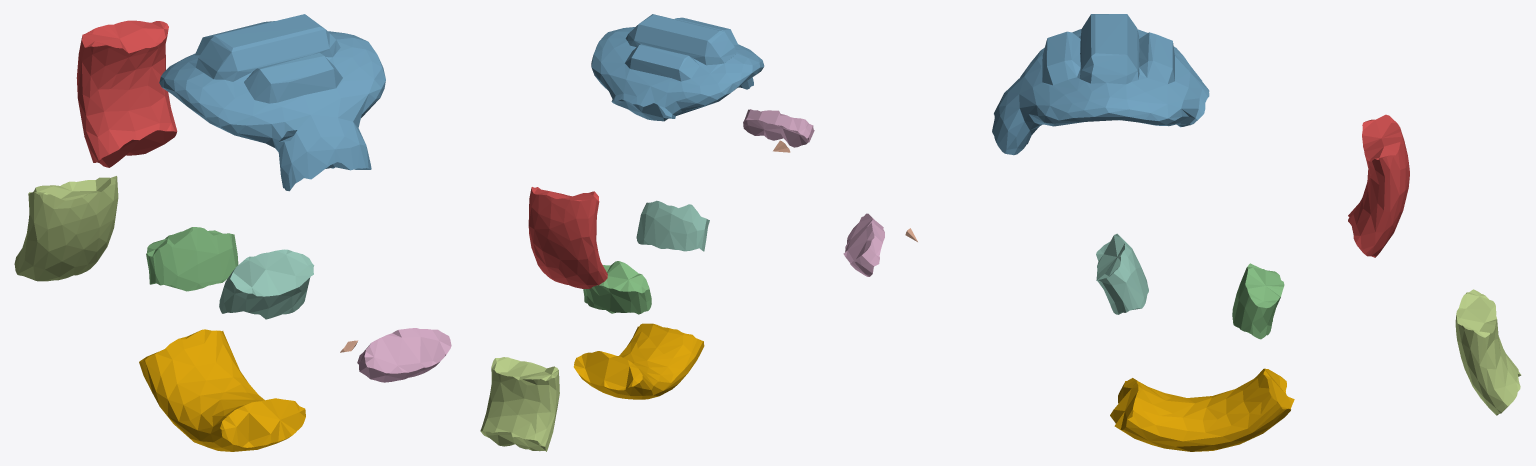
Rendered from fractured_66_8pcs_transformed.glb.
3 views of the same model, side by side, from view 1: azimuth 30°, elevation 25°; view 2: azimuth 150°, elevation 25°; view 3: azimuth 270°, elevation 25° (orthographic). The views are drawn at different scales.
Parts seen in each view (by area): view 1: piece_2.obj, piece_0.obj, piece_1.obj, piece_5.obj, piece_4.obj, piece_3.obj, piece_6.obj; view 2: piece_2.obj, piece_0.obj, piece_1.obj, piece_5.obj, piece_4.obj, piece_3.obj, piece_6.obj; view 3: piece_2.obj, piece_0.obj, piece_1.obj, piece_5.obj, piece_4.obj, piece_3.obj, piece_6.obj.
Part boxes in pixels (bbox=[...]): piece_2.obj: bbox=[159, 14, 385, 191]; piece_0.obj: bbox=[139, 329, 305, 451]; piece_1.obj: bbox=[76, 20, 177, 167]; piece_5.obj: bbox=[14, 176, 118, 281]; piece_4.obj: bbox=[219, 249, 314, 319]; piece_3.obj: bbox=[146, 227, 238, 291]; piece_6.obj: bbox=[357, 328, 451, 382]; piece_2.obj: bbox=[591, 14, 764, 121]; piece_0.obj: bbox=[573, 323, 704, 399]; piece_1.obj: bbox=[528, 187, 607, 288]; piece_5.obj: bbox=[480, 357, 559, 451]; piece_4.obj: bbox=[636, 200, 709, 251]; piece_3.obj: bbox=[583, 261, 651, 314]; piece_6.obj: bbox=[743, 109, 814, 147]; piece_2.obj: bbox=[992, 14, 1209, 155]; piece_0.obj: bbox=[1110, 368, 1294, 451]; piece_1.obj: bbox=[1348, 114, 1409, 257]; piece_5.obj: bbox=[1455, 289, 1521, 415]; piece_4.obj: bbox=[1096, 233, 1148, 314]; piece_3.obj: bbox=[1232, 263, 1284, 339]; piece_6.obj: bbox=[843, 213, 884, 276].
Size of the model in its own units: 0.7357 by 1.6 by 2.41.
